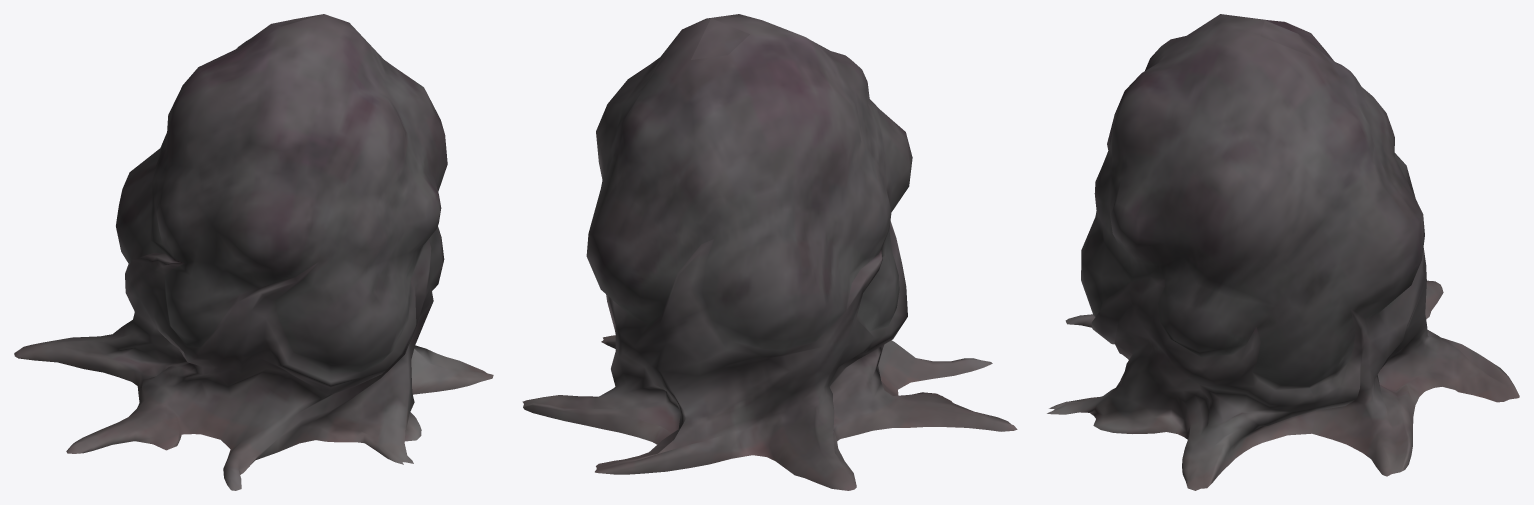
Rendered from Cocoon (27).fbx.
3 renders of one model, left to right at view 1: azimuth 30°, elevation 25°; view 2: azimuth 150°, elevation 25°; view 3: azimuth 270°, elevation 25°, orthographic. The views are drawn at different scales.
Visible parts, largest first — view 1: Egg; view 2: Egg; view 3: Egg.
Boxes of the visible parts, box(x1,y1,x2,y2) form: Egg: box(14, 14, 493, 490); Egg: box(522, 14, 1017, 490); Egg: box(1047, 14, 1519, 490).
Bounding box in the file's own units: 1.33 × 1.13 × 1.26.
